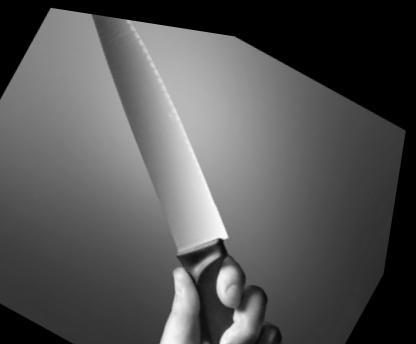knife: (0, 0, 415, 342)
